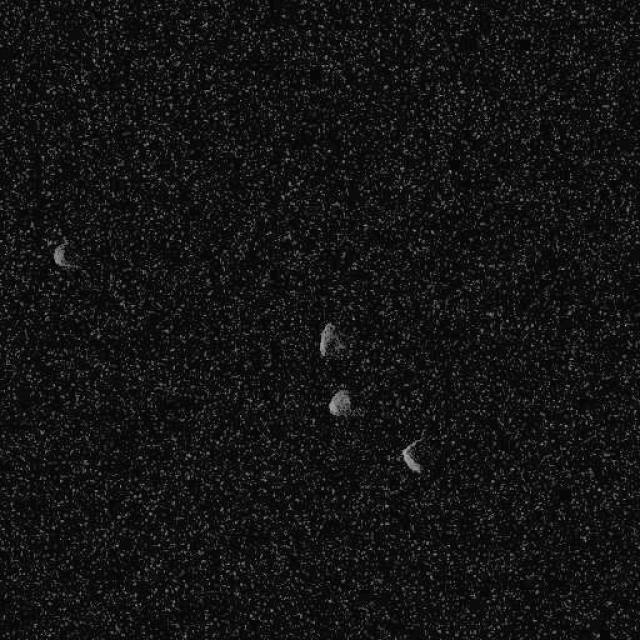D2: (400, 436, 425, 474), (51, 241, 79, 270), (328, 388, 352, 418), (318, 322, 338, 358)
